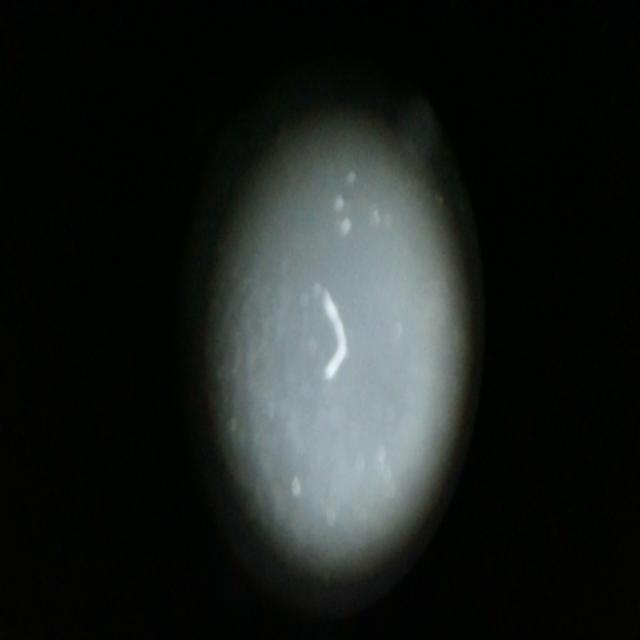psudo-nitzschia: (316, 287, 352, 390)
